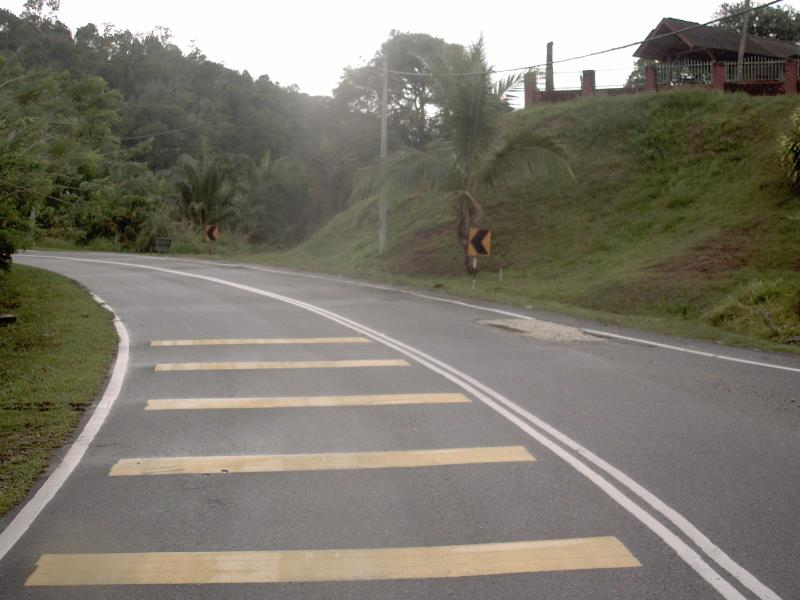traffic_sign: (460, 219, 498, 267)
